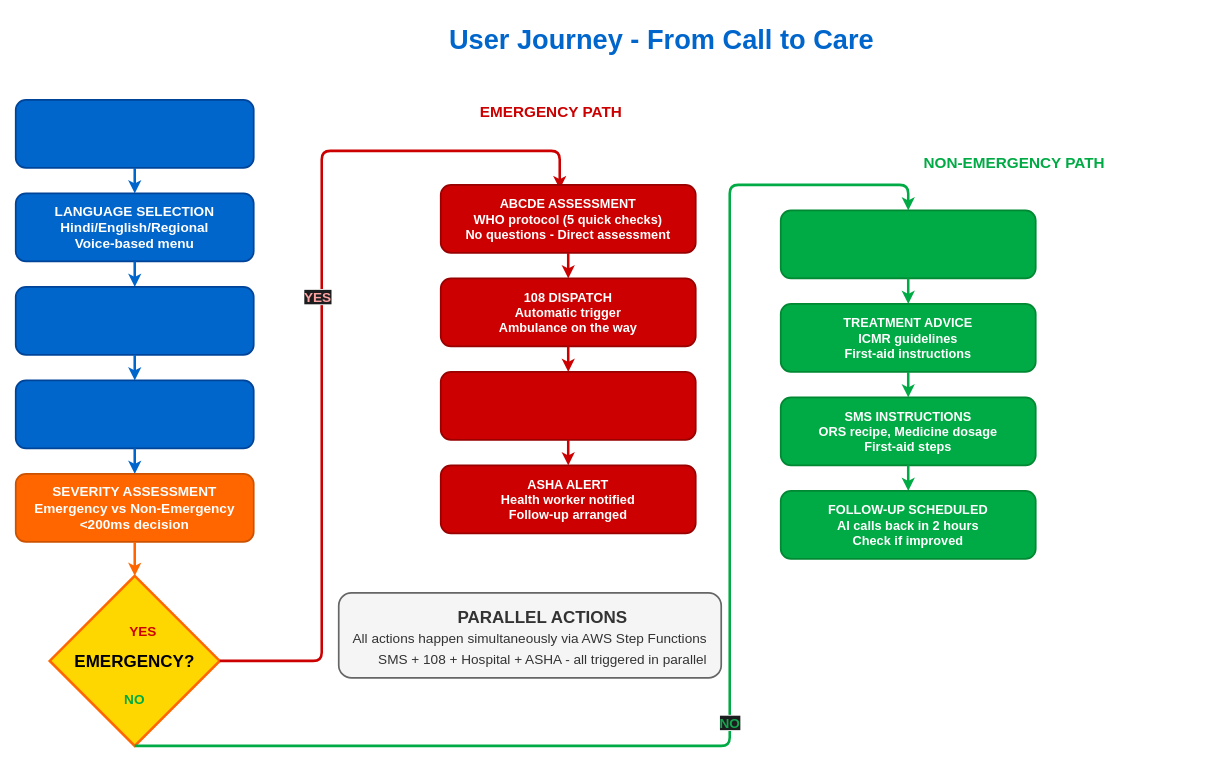
Some shapes in this 1220 by 768 pixel diagram are drawn without their labels. Each missing label, with the centre of its shape:
AI TRIAGE Asks 3-4 questions ICMR protocols: (907,244)
HOSPITAL ALERT Nearest facility notified Prepare for arrival: (567,405)
KEYWORD DETECTION Emergency keywords? Emotion analysis (panic/distress): (134,414)
SYMPTOM DESCRIPTION "Mera bachcha bukhar hai" Natural language: (134,320)
USER CALLS Toll-free number Any phone works: (134,133)
